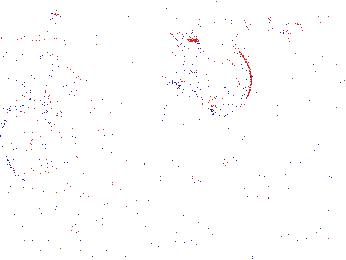moon jellyfish: (197, 99, 287, 158), (1, 90, 52, 183), (202, 38, 253, 115), (1, 36, 47, 116), (1, 51, 82, 88), (164, 43, 226, 87)
